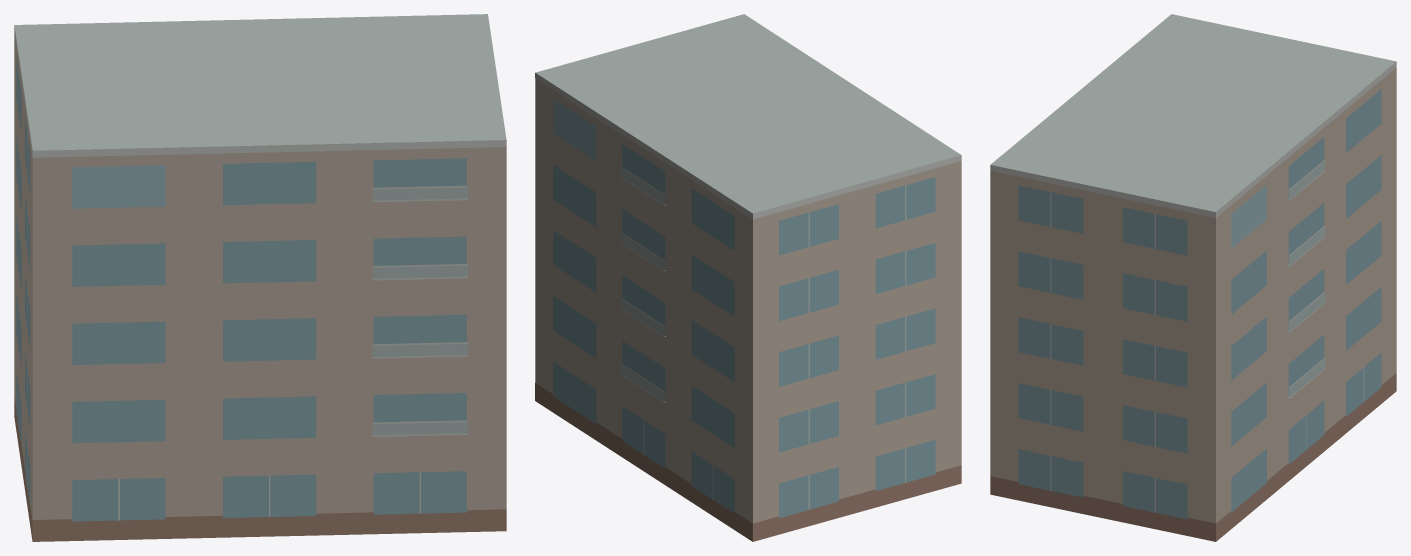
File: survey-upis-32884304.glb
3 renders of one model, left to right at view 1: azimuth 30°, elevation 25°; view 2: azimuth 150°, elevation 25°; view 3: azimuth 270°, elevation 25°, orthographic. The views are drawn at different scales.
Parts seen in each view (by area): view 1: survey-upis-32884304.tmp; view 2: survey-upis-32884304.tmp; view 3: survey-upis-32884304.tmp.
Part boxes in pixels (x1,y1,x2,y2): survey-upis-32884304.tmp: (14, 14, 506, 541); survey-upis-32884304.tmp: (535, 14, 961, 541); survey-upis-32884304.tmp: (990, 14, 1396, 541).
Size of the model in its own units: 17.67 by 13.7 by 15.31.
